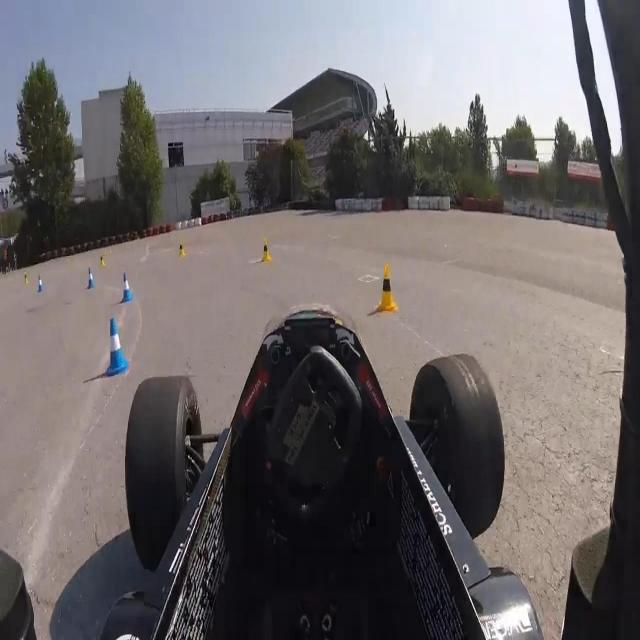blue_cone: (104, 316, 130, 378), (119, 271, 134, 305), (85, 264, 96, 289), (37, 272, 45, 293)
yellow_cone: (374, 260, 398, 316), (259, 234, 272, 264), (177, 239, 186, 260), (98, 250, 106, 268), (24, 270, 29, 285)
